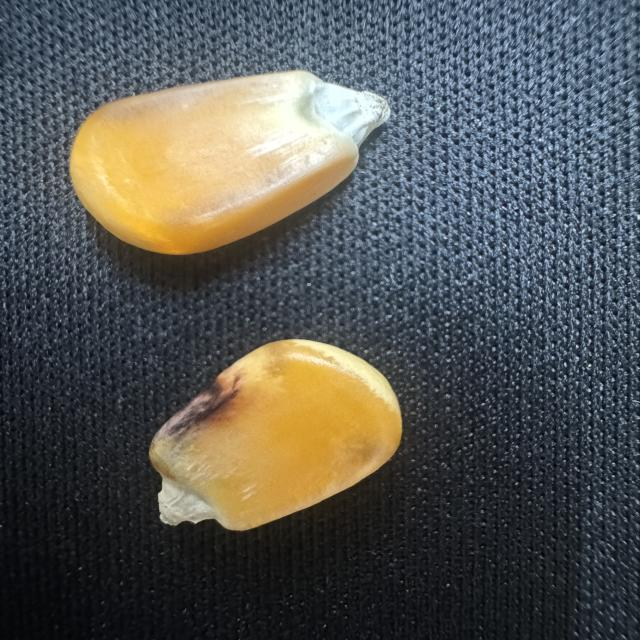Bad-Seed: (134, 332, 409, 544)
Good-Seed: (64, 64, 401, 259)
